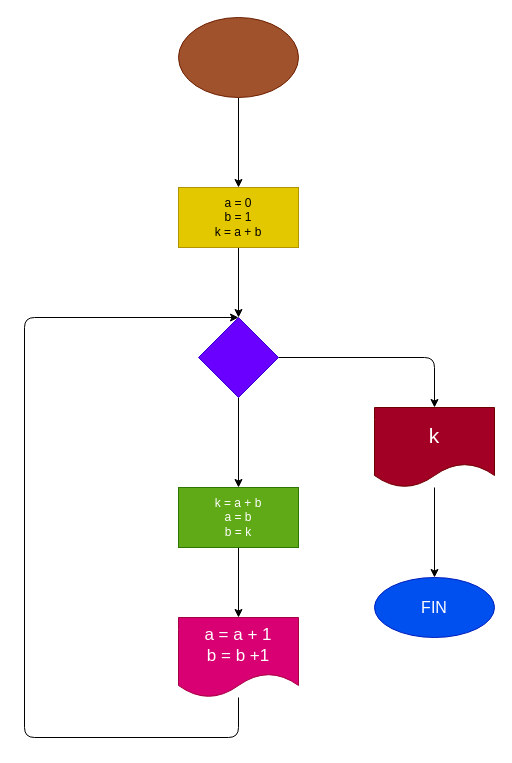
This 512x763 diagram has some shape labels left out. Each missing label, with the box of its shape:
INICIO: (178, 16, 298, 98)
k < 900: (198, 316, 278, 398)
